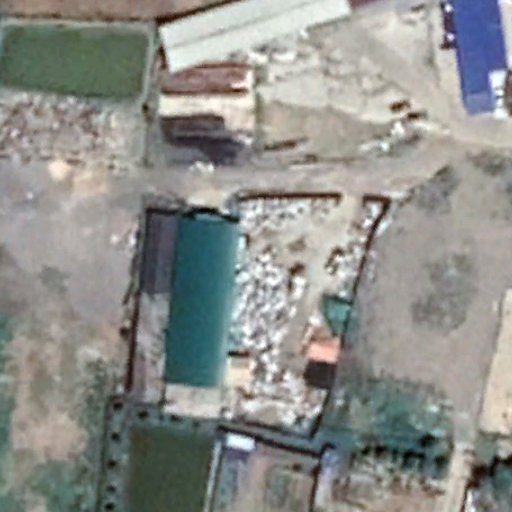msw: (223, 197, 379, 434)
